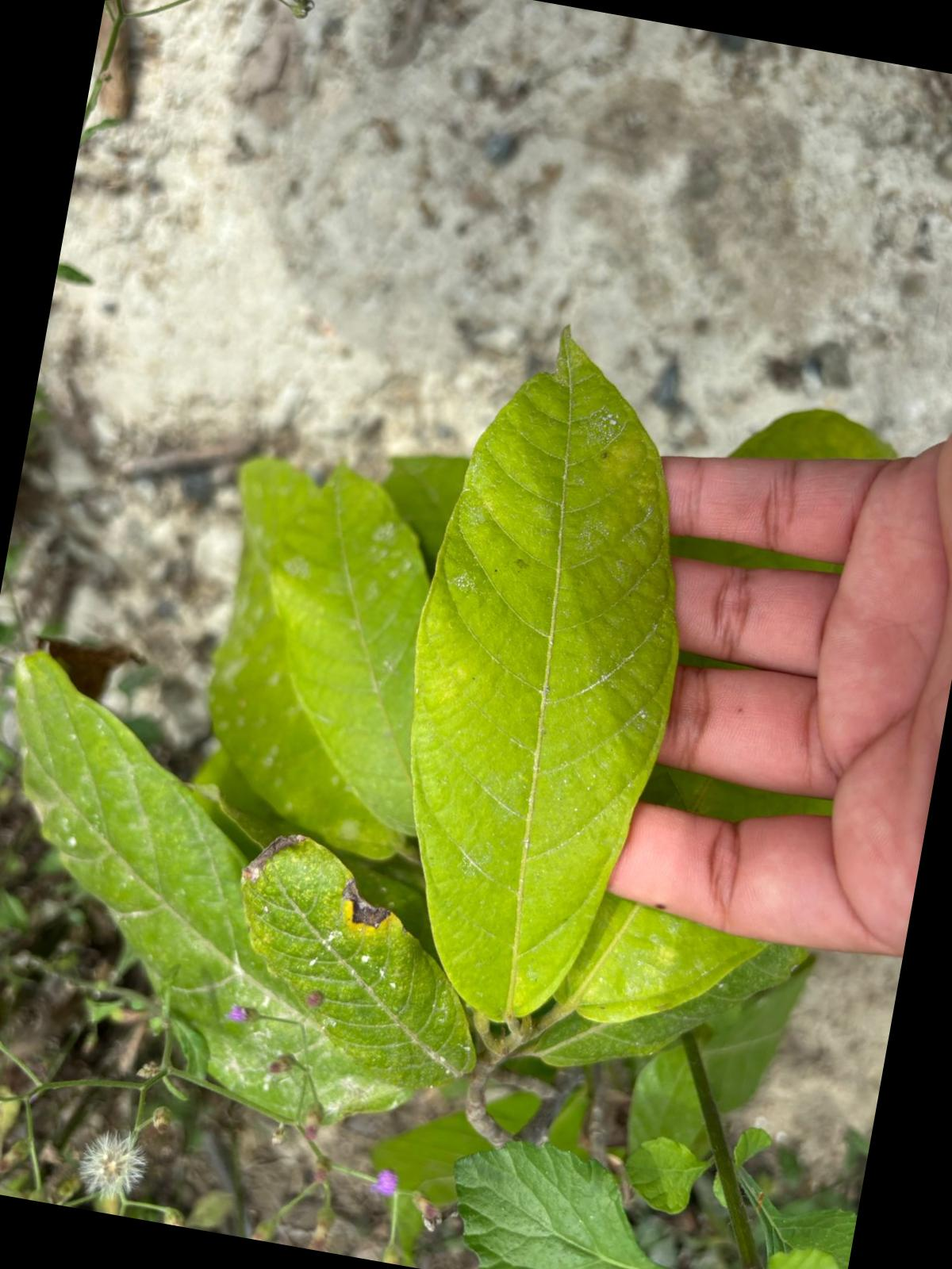Nitrogeno: (411, 331, 679, 1020)
